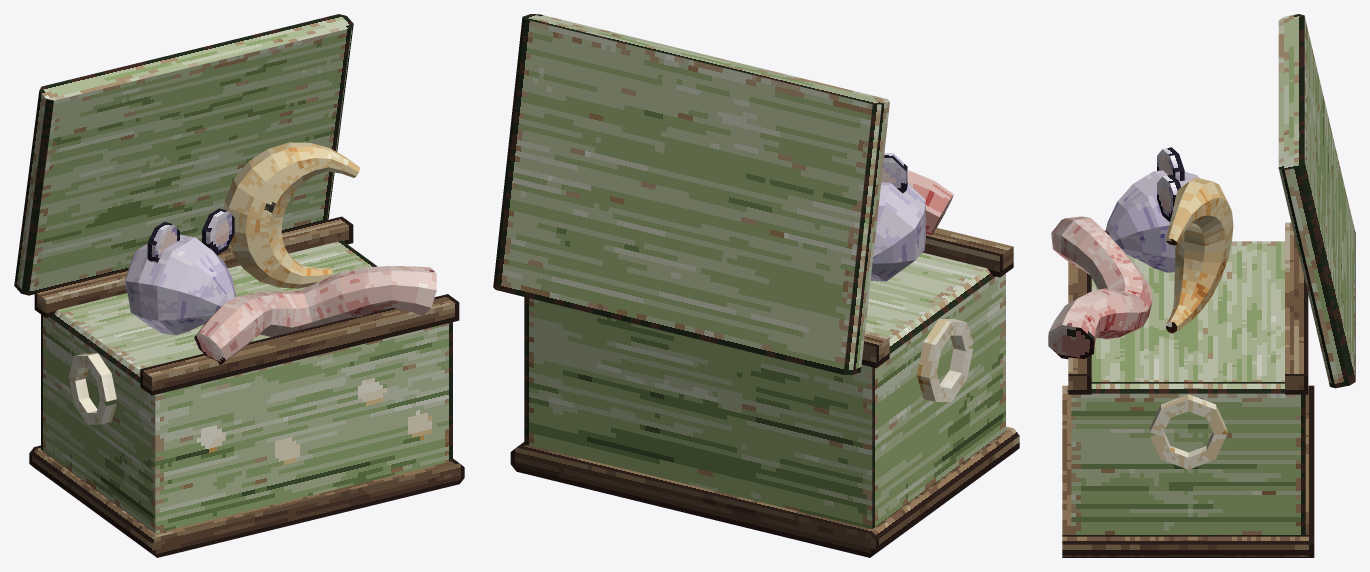
Rendered from toybox.glb.
The picture shows the model from 3 angles, left to right: view 1: azimuth 30°, elevation 25°; view 2: azimuth 150°, elevation 25°; view 3: azimuth 270°, elevation 25°; orthographic projection. The views are drawn at different scales.
Visible parts, largest first — view 1: chest, lid, worm, base, moon, rimf, mouse, rimb, handle-1, mear1, mear-1; view 2: lid, chest, base, mouse, handle-1, rimf, worm, rimb, mear-1; view 3: chest, lid, worm, base, moon, mouse, rimb, handle1, rimf, mear1, mear-1.
Part boxes in pixels (<box>): chest: <box>41,240,452,533</box>; lid: <box>14,14,353,295</box>; worm: <box>194,266,436,364</box>; base: <box>29,445,464,557</box>; moon: <box>224,142,359,288</box>; rimf: <box>140,294,459,395</box>; mouse: <box>125,234,235,335</box>; rimb: <box>34,216,353,317</box>; handle-1: <box>68,353,116,424</box>; mear1: <box>202,208,234,255</box>; mear-1: <box>147,222,179,262</box>; lid: <box>493,14,889,374</box>; chest: <box>524,252,1005,529</box>; base: <box>510,426,1019,557</box>; mouse: <box>870,182,925,281</box>; handle-1: <box>917,319,973,402</box>; rimf: <box>923,227,1013,277</box>; worm: <box>907,170,953,235</box>; rimb: <box>861,331,889,367</box>; mear-1: <box>881,153,907,193</box>; chest: <box>1071,241,1305,535</box>; lid: <box>1278,14,1355,388</box>; worm: <box>1048,216,1152,359</box>; base: <box>1062,385,1314,557</box>; moon: <box>1165,177,1233,332</box>; mouse: <box>1105,170,1199,272</box>; rimb: <box>1285,222,1308,394</box>; handle1: <box>1150,394,1227,469</box>; rimf: <box>1068,262,1091,394</box>; mear1: <box>1157,174,1180,221</box>; mear-1: <box>1157,147,1184,180</box>.
Size of the model in its own units: 0.8031 by 0.9251 by 0.6562.
1 material, 1 textured.
